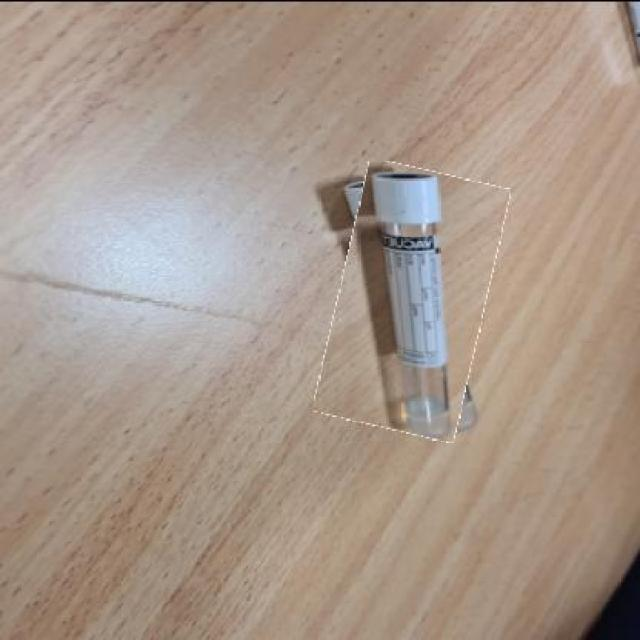Experimental-tube: (326, 163, 497, 435)
